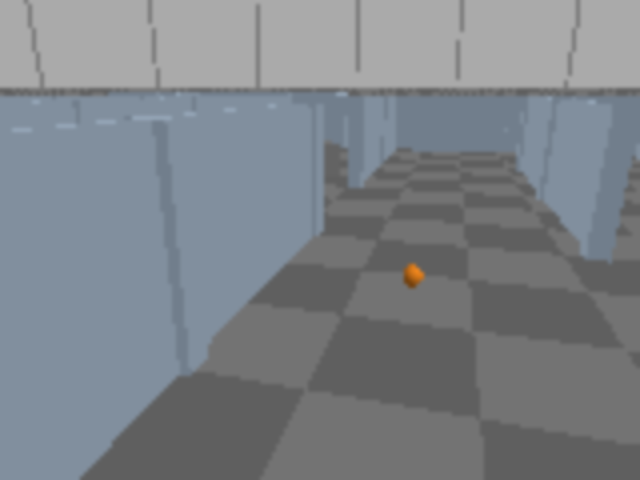puck: (397, 261, 429, 292)
